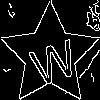W: (25, 30, 81, 88)
